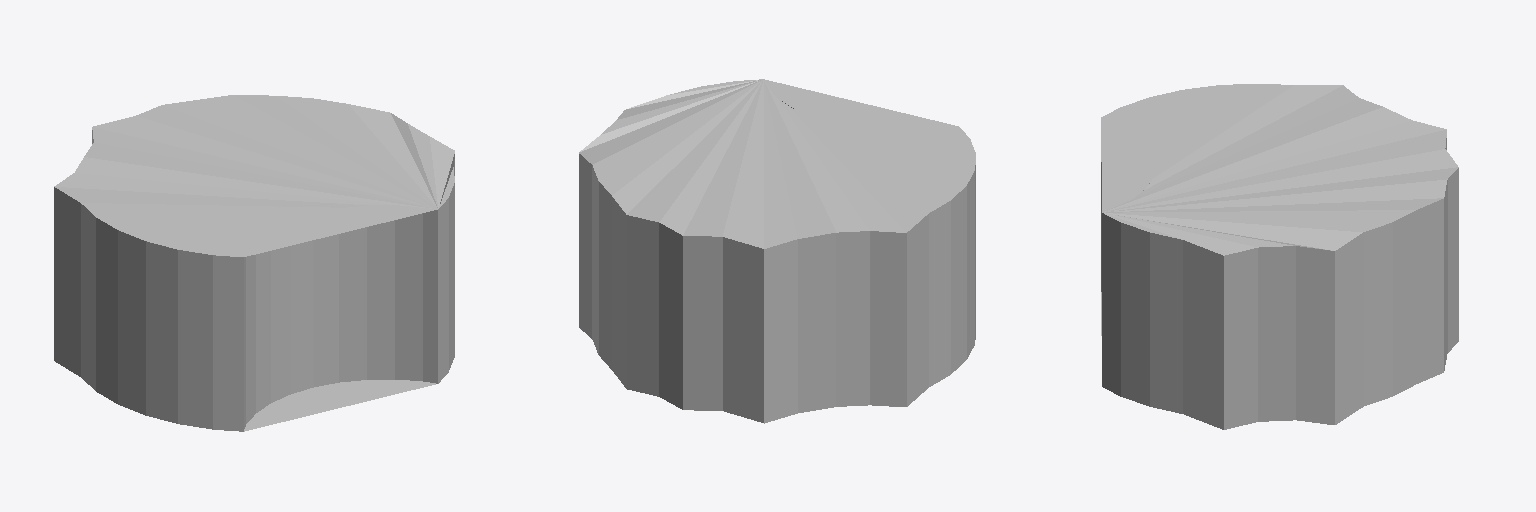
The model's file is attlerock.obj.
The picture shows the model from 3 angles: view 1: azimuth 30°, elevation 25°; view 2: azimuth 150°, elevation 25°; view 3: azimuth 270°, elevation 25°; orthographic projection.
Parts seen in each view (by area): view 1: Attlerock; view 2: Attlerock; view 3: Attlerock.
Boxes of the visible parts, box(x1,y1,x2,y2) form: Attlerock: box(54, 95, 454, 431); Attlerock: box(579, 79, 975, 423); Attlerock: box(1101, 84, 1458, 429).
Size of the model in its own units: 2.06 by 1.04 by 1.86.